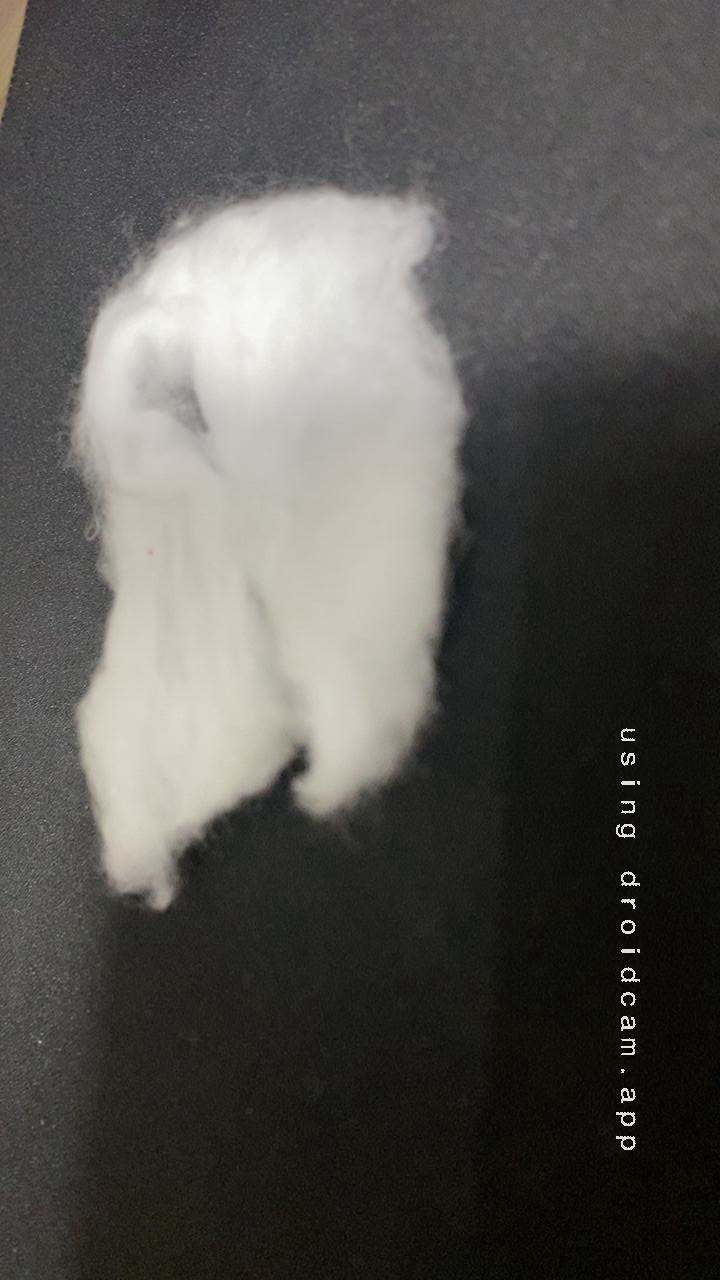cotton: (0, 140, 562, 896)
